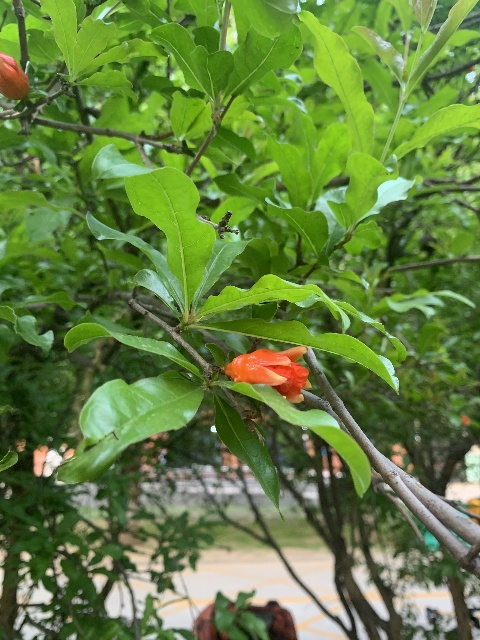bud: (0, 52, 29, 100)
flower: (224, 345, 312, 403)
